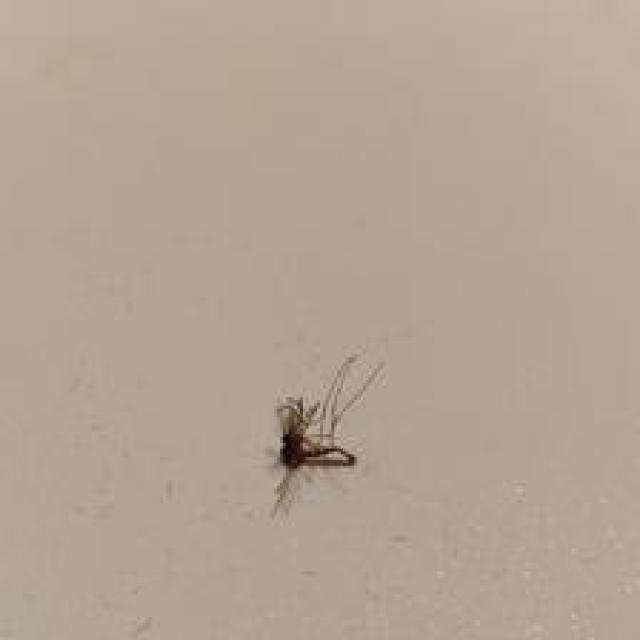Culex: (266, 351, 386, 520)
